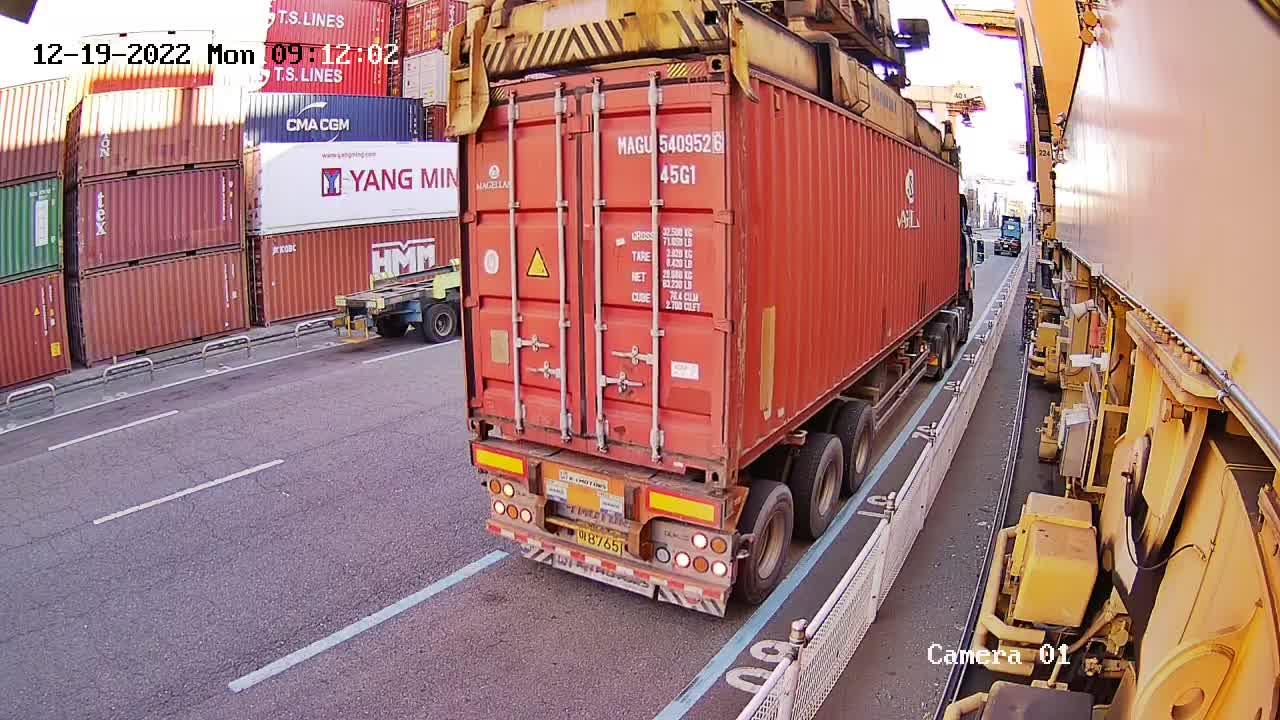Chassis: (470, 442, 719, 527)
Cone: (718, 495, 733, 519)
Hole_L: (466, 394, 508, 439), (727, 423, 755, 488)
Hole_R: (681, 436, 727, 491)
Tire: (748, 487, 797, 591), (805, 439, 842, 533), (848, 406, 873, 485)
